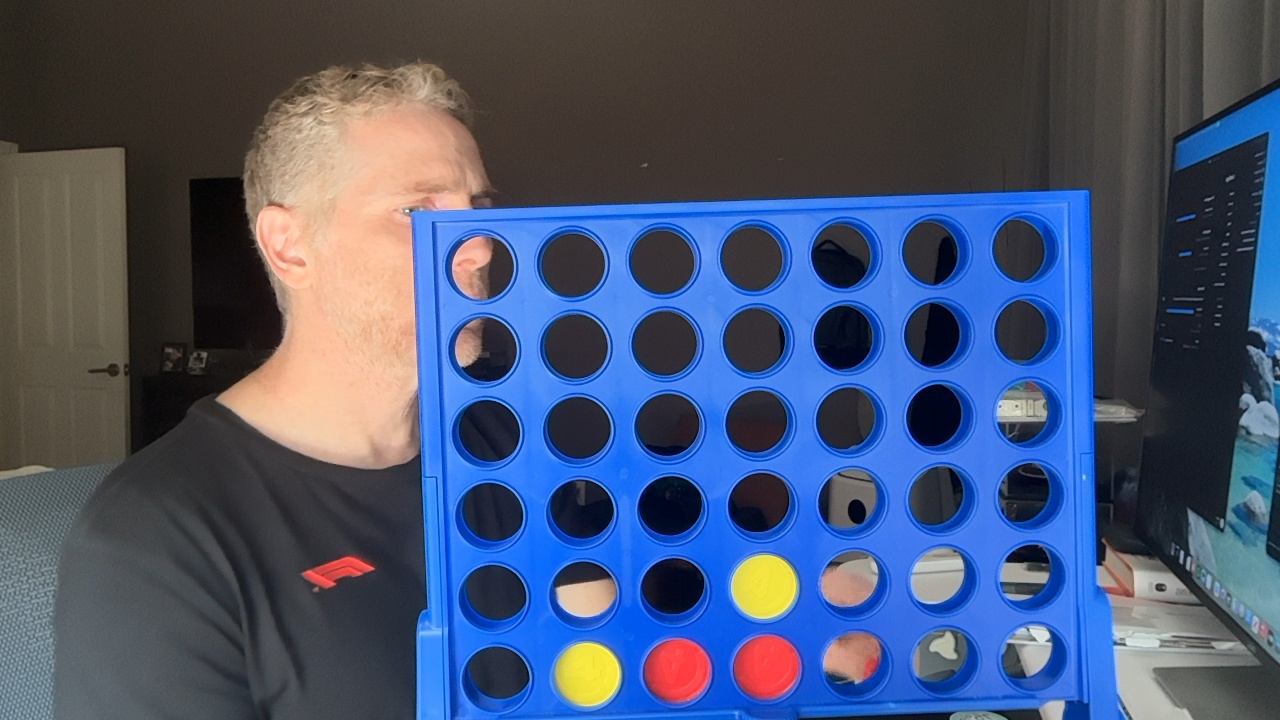red piece: (643, 638, 710, 703), (733, 635, 800, 700)
yellow piece: (554, 642, 620, 708), (731, 553, 797, 619)
